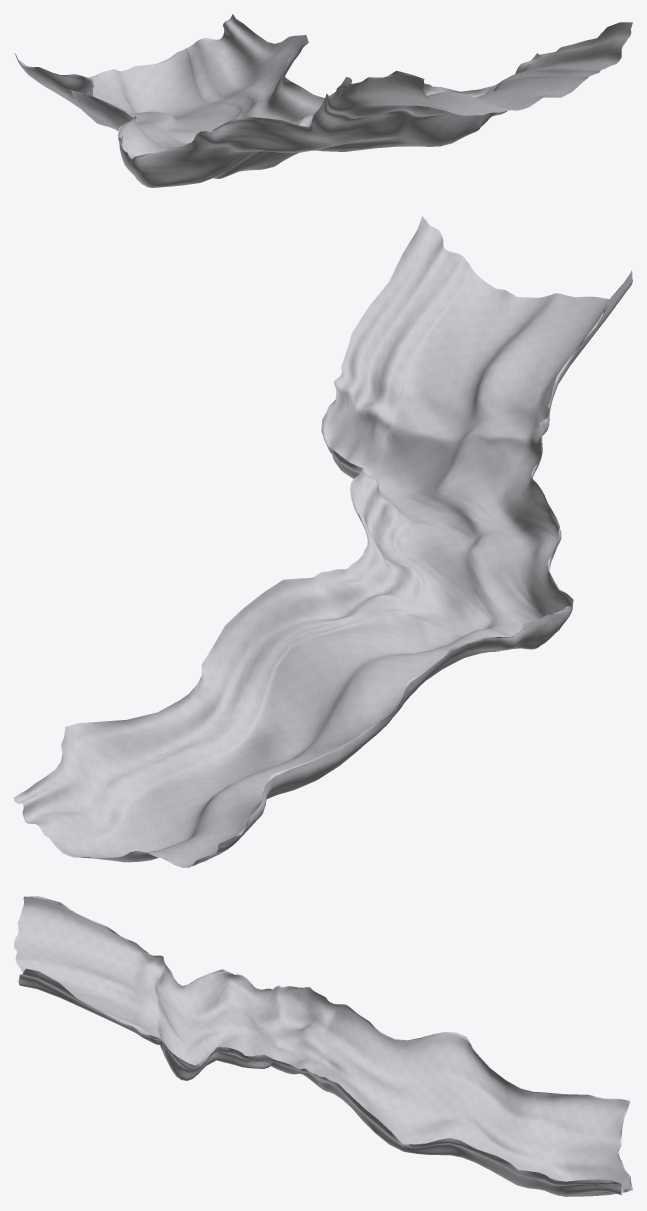
Rendered from course.DAE.
The picture shows the model from 3 angles, top to bottom: view 1: azimuth 30°, elevation 25°; view 2: azimuth 150°, elevation 25°; view 3: azimuth 270°, elevation 25°; orthographic projection. The views are drawn at different scales.
Visible parts, largest first — view 1: Loft01; view 2: Loft01; view 3: Loft01.
Boxes of the visible parts, bbox=[...] form: Loft01: bbox=[14, 14, 632, 187]; Loft01: bbox=[14, 216, 632, 867]; Loft01: bbox=[14, 896, 632, 1196].
Size of the model in its own units: 727 by 1547 by 702.
